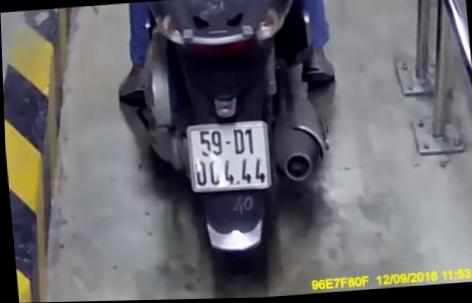LP: (183, 118, 273, 196)
